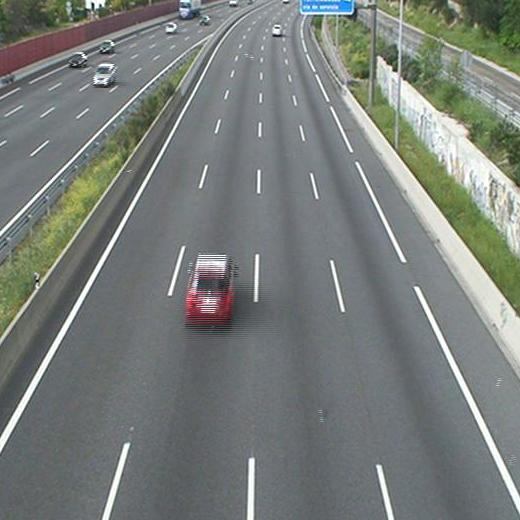car: (185, 256, 232, 320), (271, 25, 282, 35)
